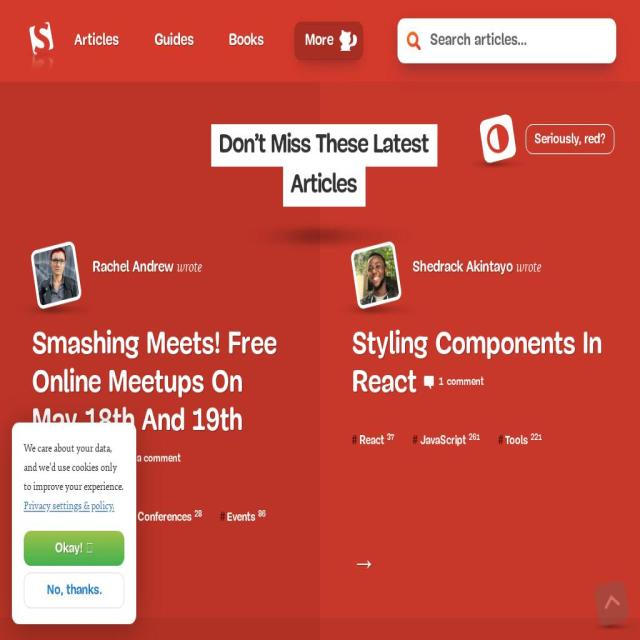button: (476, 113, 614, 166), (32, 239, 86, 311), (352, 239, 406, 311), (23, 573, 125, 609), (23, 531, 125, 566), (24, 490, 114, 522), (294, 21, 364, 60), (65, 22, 128, 60), (145, 22, 203, 60), (219, 22, 273, 60), (23, 13, 59, 69), (98, 449, 184, 469), (39, 508, 112, 528), (593, 578, 625, 621), (137, 508, 202, 528), (424, 372, 487, 392), (419, 431, 480, 451), (227, 508, 266, 528), (505, 431, 543, 451), (359, 431, 394, 451)
field: (397, 18, 617, 64)
heading: (32, 328, 277, 477), (352, 328, 602, 400), (219, 132, 429, 159), (290, 172, 358, 199), (111, 453, 180, 465), (444, 377, 484, 388), (438, 377, 444, 388)
image: (32, 243, 80, 307), (352, 243, 400, 307), (479, 114, 517, 164), (23, 21, 55, 77), (602, 590, 618, 612)
link: (412, 260, 513, 277), (92, 260, 174, 277), (468, 432, 480, 442), (530, 432, 542, 442), (104, 509, 112, 519), (194, 509, 202, 519), (258, 509, 266, 519), (386, 432, 394, 442)
text: (23, 441, 124, 494), (526, 124, 614, 155), (39, 511, 104, 524), (137, 511, 194, 524), (419, 434, 469, 448), (176, 258, 202, 278), (516, 258, 541, 278), (305, 33, 334, 49), (227, 511, 259, 524), (359, 434, 387, 448), (505, 434, 531, 448)
